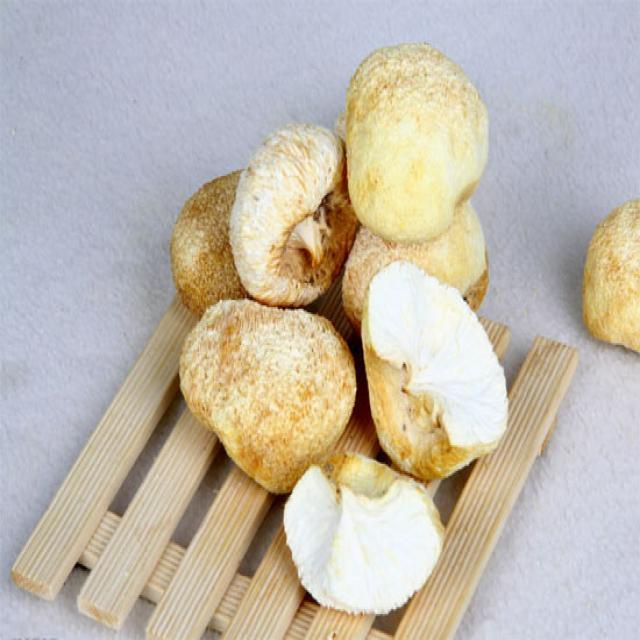Hericium erinaceus: (180, 301, 354, 488), (364, 262, 506, 479), (346, 43, 491, 238), (285, 452, 443, 613), (230, 124, 352, 306), (343, 197, 491, 314), (171, 168, 248, 313), (583, 198, 640, 352)
